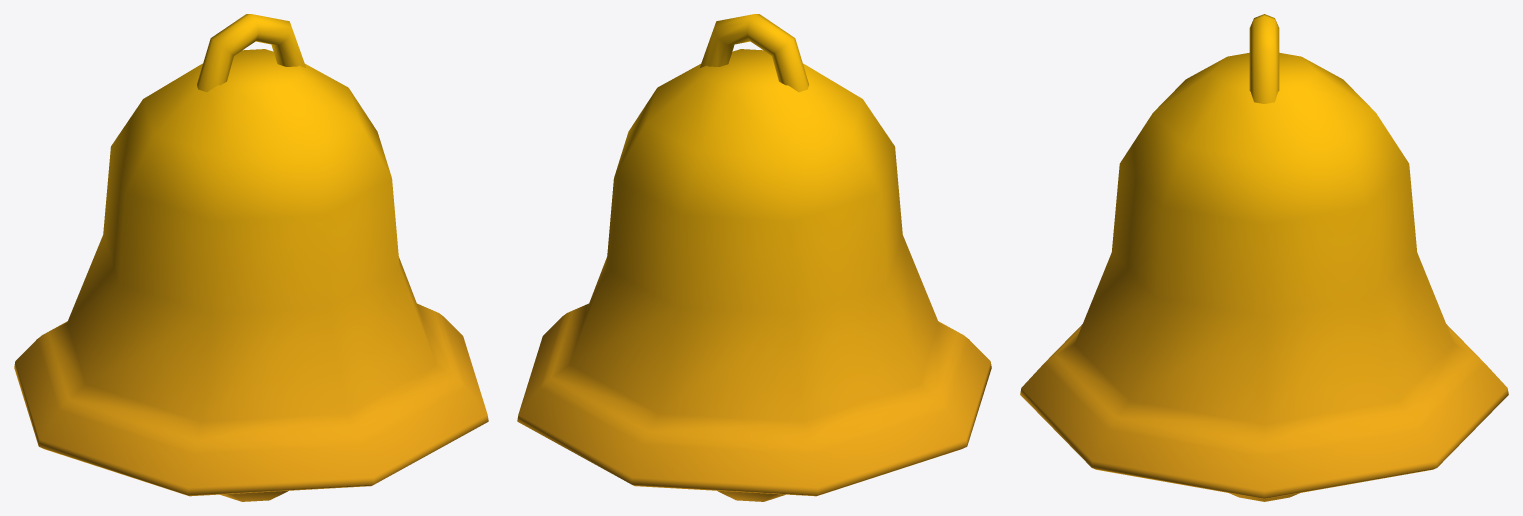
File: Bell.fbx
3 renders of one model, left to right at view 1: azimuth 30°, elevation 25°; view 2: azimuth 150°, elevation 25°; view 3: azimuth 270°, elevation 25°, orthographic.
Parts seen in each view (by area): view 1: Bell; view 2: Bell; view 3: Bell.
Part boxes in pixels (left/top/right/bottom): Bell: left=14, top=14, right=488, bottom=501; Bell: left=517, top=14, right=991, bottom=501; Bell: left=1020, top=14, right=1508, bottom=501.
Size of the model in its own units: 26.91 by 28.99 by 26.91.
